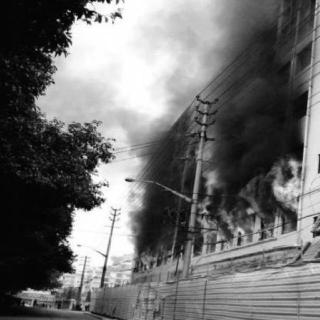Smoke: (121, 103, 168, 243)
